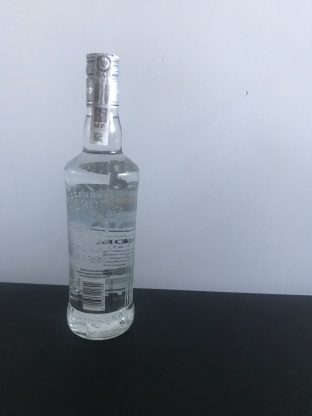nakretka: (83, 49, 122, 111)
